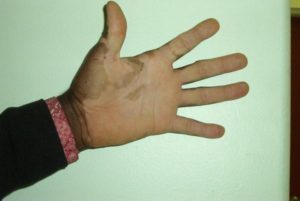Diseased: (71, 11, 227, 141)
